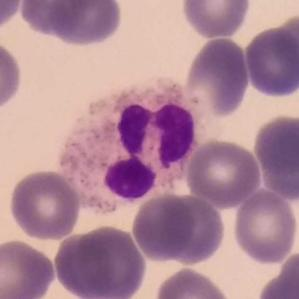Neutrophil: (56, 78, 212, 213)
RBC: (56, 223, 150, 299), (182, 36, 252, 119), (7, 167, 83, 242), (184, 136, 263, 208), (231, 187, 298, 266), (161, 192, 227, 267), (130, 191, 197, 263), (251, 111, 299, 200), (243, 24, 299, 100), (46, 0, 124, 49), (0, 237, 57, 299), (99, 152, 161, 207), (16, 0, 93, 38), (179, 0, 252, 40), (152, 265, 234, 299), (270, 12, 299, 80), (0, 38, 25, 114), (256, 258, 299, 298), (277, 249, 299, 298), (0, 0, 26, 32)
